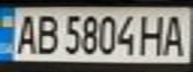0: (96, 12, 121, 56)
4: (115, 11, 142, 56)
5: (60, 11, 81, 55)
8: (78, 12, 100, 56)
A: (157, 11, 190, 57), (12, 11, 39, 55)
B: (33, 11, 60, 56)
H: (136, 11, 169, 56)
